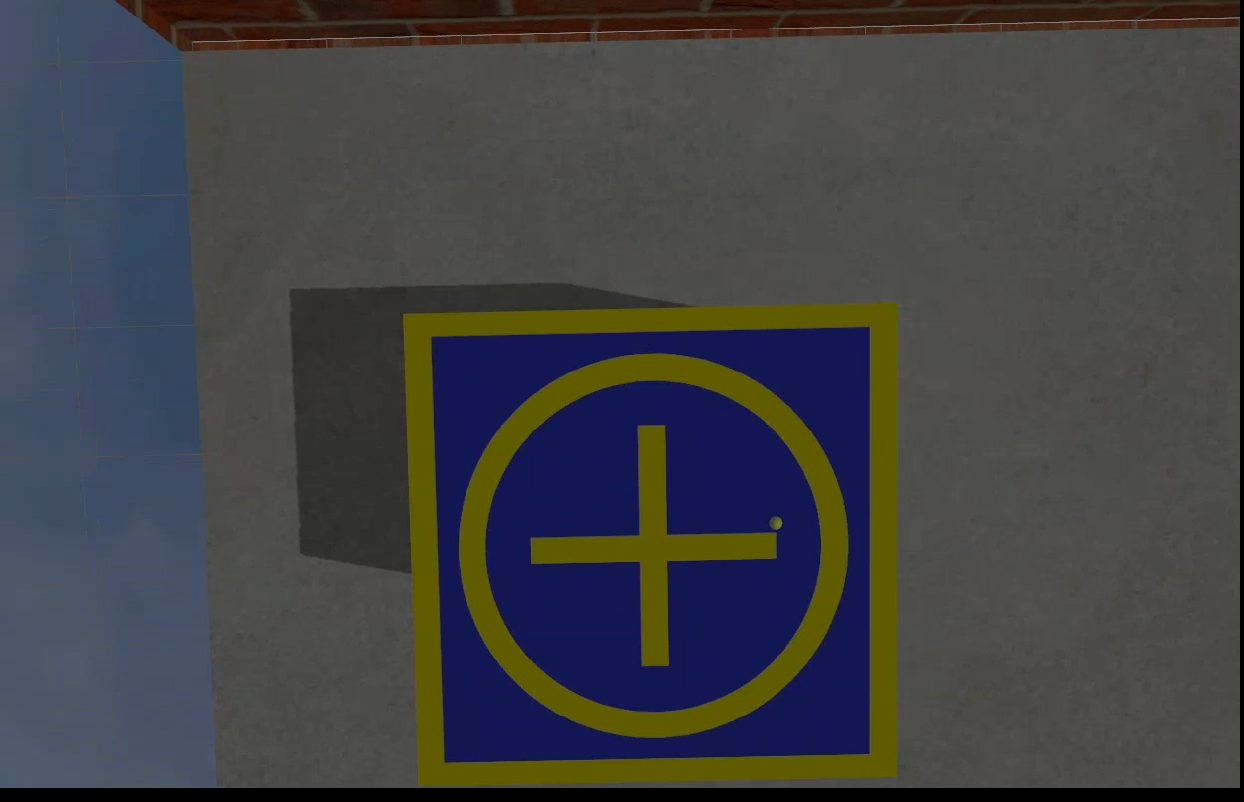small_base: (400, 304, 903, 787)
